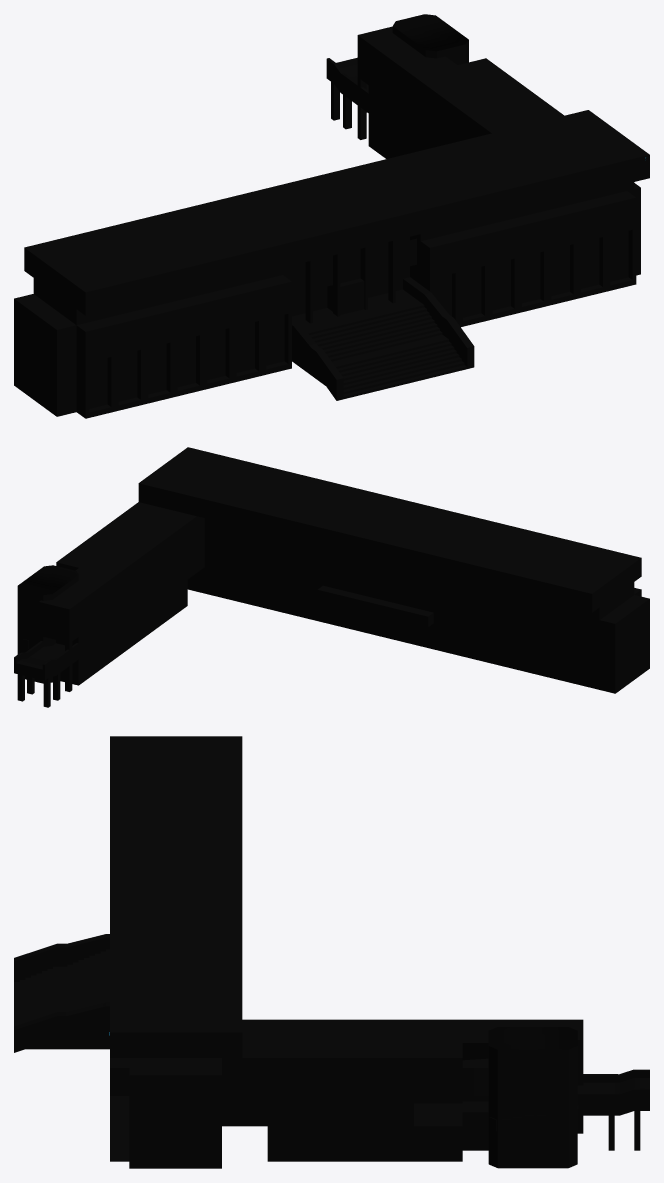
The model's file is building_woncheon.gltf.
The picture shows the model from 3 angles, top to bottom: view 1: azimuth 30°, elevation 25°; view 2: azimuth 150°, elevation 25°; view 3: azimuth 270°, elevation 25°; orthographic projection. The views are drawn at different scales.
Visible parts, largest first — view 1: building_woncheon; view 2: building_woncheon; view 3: building_woncheon.
Part boxes in pixels (left/top/right/bottom): building_woncheon: left=14, top=14, right=649, bottom=418; building_woncheon: left=14, top=447, right=649, bottom=707; building_woncheon: left=14, top=736, right=649, bottom=1168.
Size of the model in its own units: 4.44 by 0.9171 by 3.89.
Materials: 1 (1 with a texture image).
